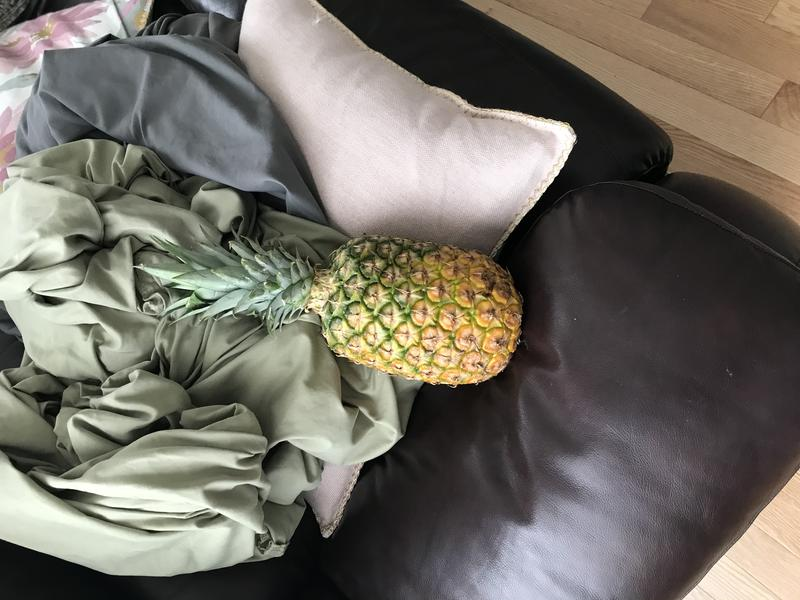pineapple: (129, 216, 531, 397)
